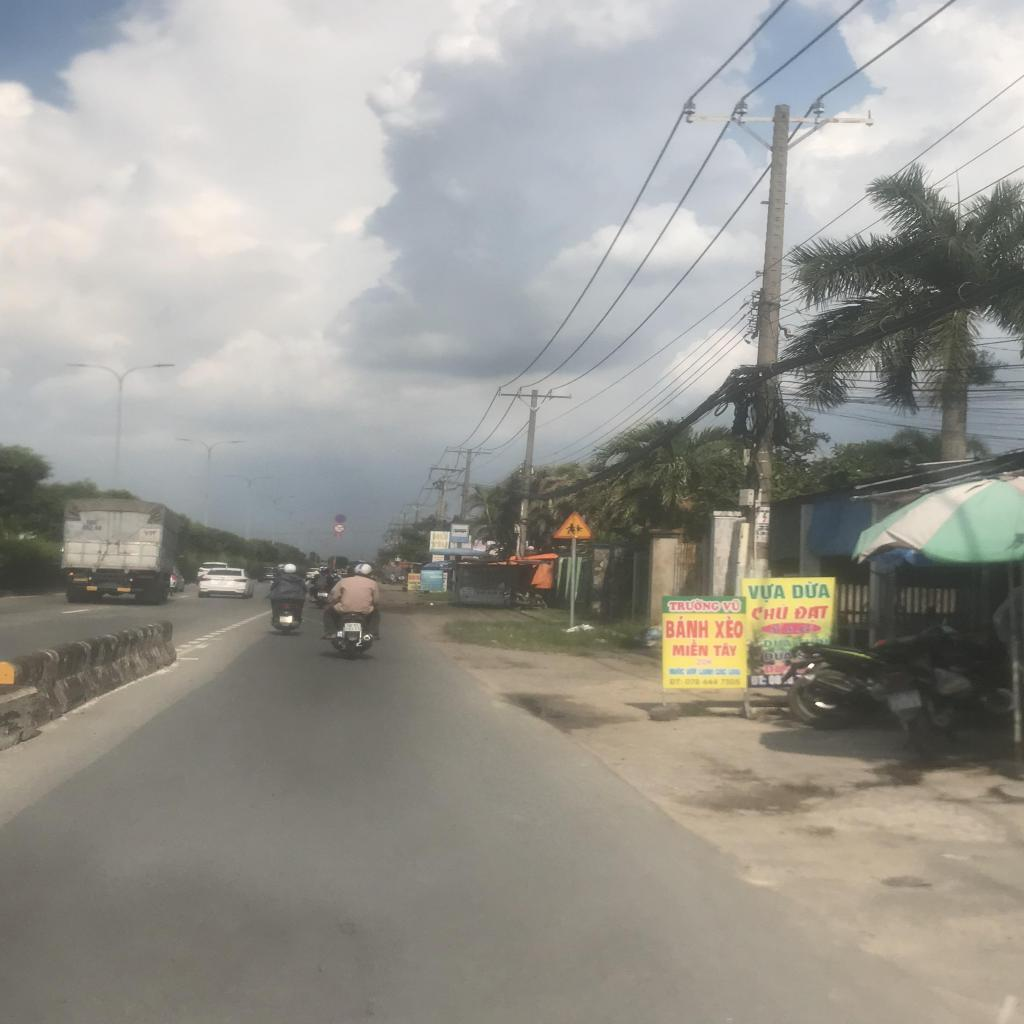cam_dung_xe_va_do_xe: (334, 514, 346, 523)
cam_xe_2_banh_va_xe_3_banh_co_dong_co: (334, 524, 345, 532)
chu_y_tre_em: (551, 509, 599, 539)
khac: (450, 524, 468, 544)
